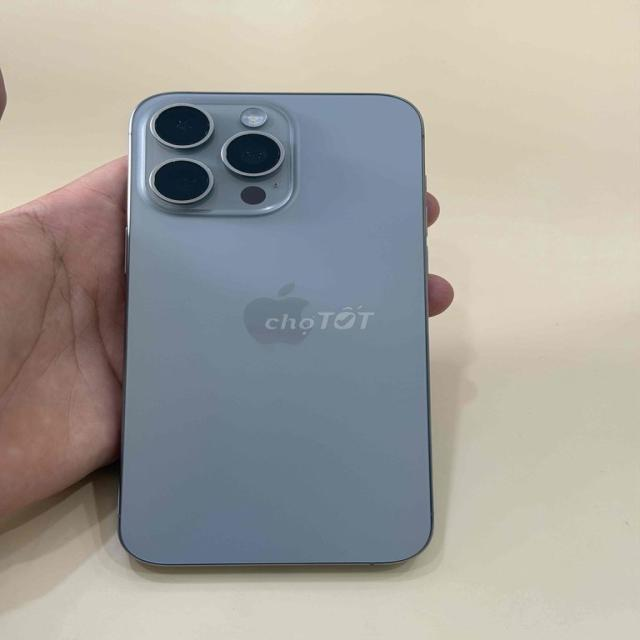gen_15: (70, 64, 455, 589)
